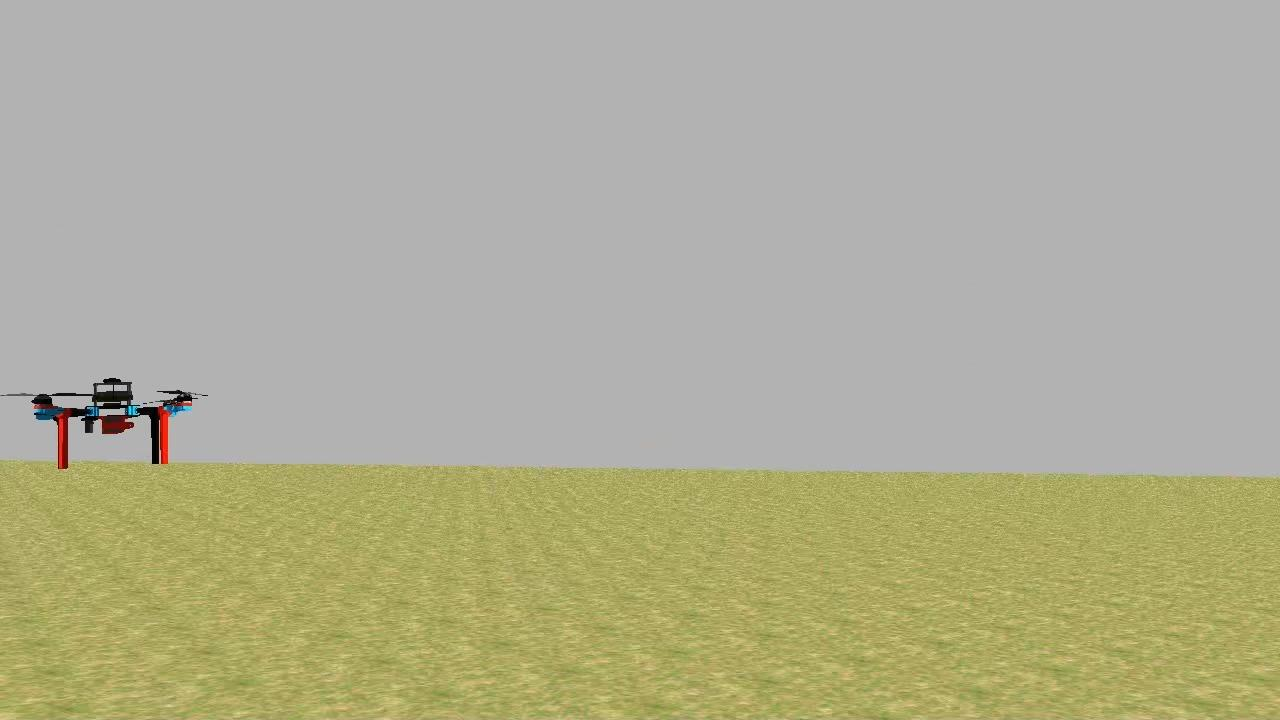UAV: (26, 368, 204, 476)
